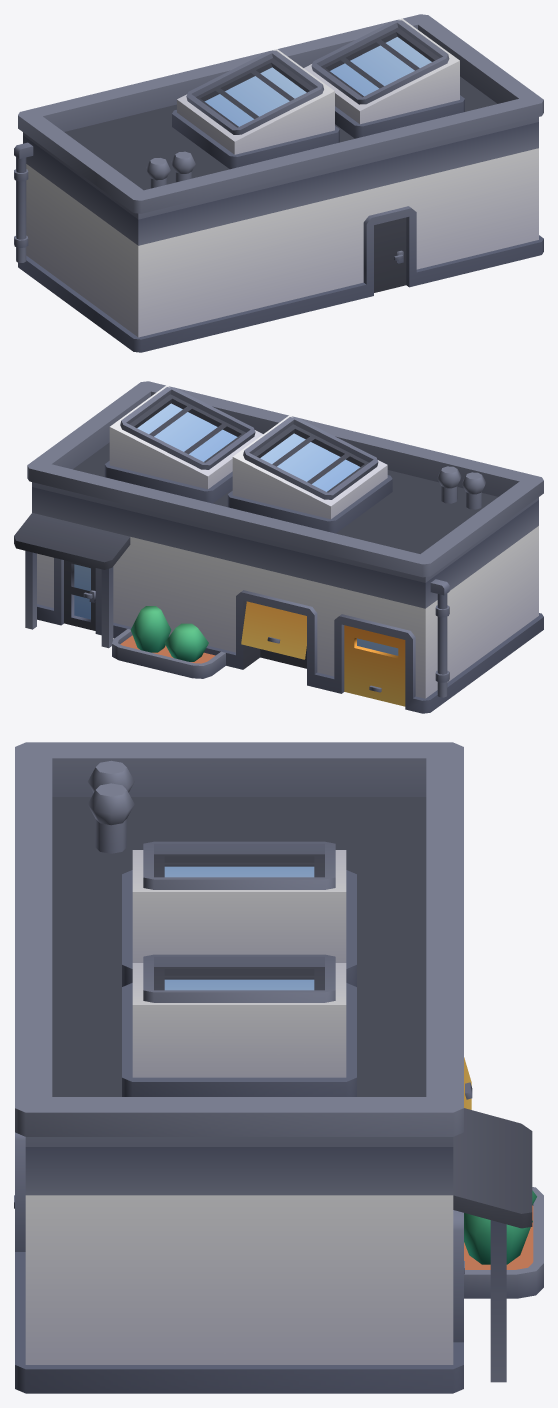
File: building-p_lev1.glb
3 renders of one model, top to bottom at view 1: azimuth 30°, elevation 25°; view 2: azimuth 150°, elevation 25°; view 3: azimuth 270°, elevation 25°, orthographic. The views are drawn at different scales.
Visible parts, largest first — view 1: building-p_lev1; view 2: building-p_lev1; view 3: building-p_lev1.
Boxes of the visible parts, left/top/right/bottom form: building-p_lev1: left=14, top=14, right=543, bottom=352; building-p_lev1: left=14, top=381, right=543, bottom=713; building-p_lev1: left=14, top=742, right=543, bottom=1393.
Size of the model in its own units: 12.49 by 5.3 by 7.36.
1 material, 1 textured.
